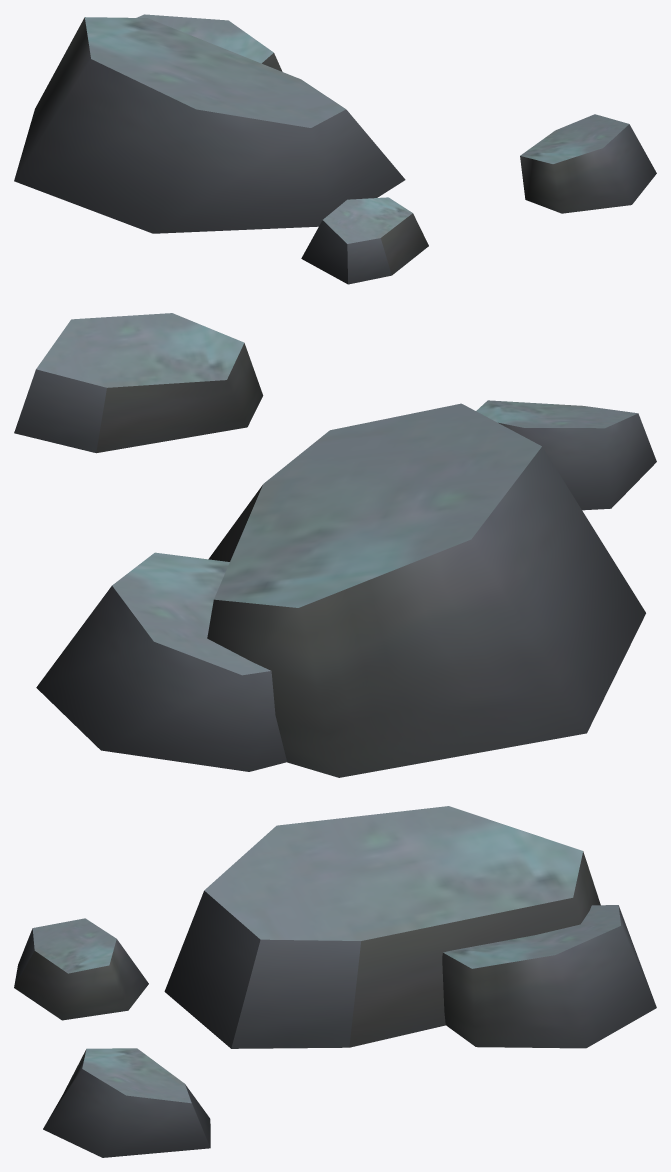
File: stone_2.FBX
The picture shows the model from 3 angles, top to bottom: view 1: azimuth 30°, elevation 25°; view 2: azimuth 150°, elevation 25°; view 3: azimuth 270°, elevation 25°; orthographic projection. The views are drawn at different scales.
Parts seen in each view (by area): view 1: stone_2; view 2: stone_2; view 3: stone_2.
Part boxes in pixels (x1,y1,x2,y2): stone_2: (14,14,656,284); stone_2: (14,313,656,777); stone_2: (14,806,656,1157).
Bounding box in the file's own units: 125 × 25.48 × 123.
